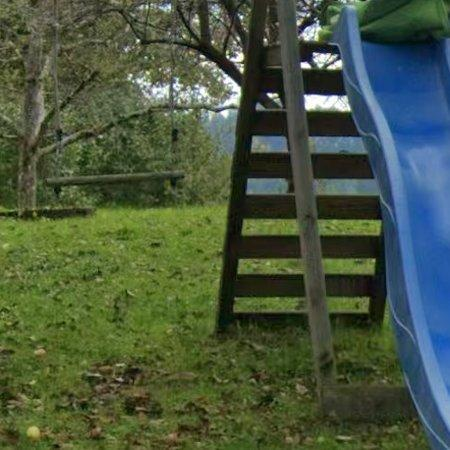stairs: (219, 45, 305, 329), (309, 112, 382, 220), (324, 235, 386, 320), (303, 69, 345, 94)
